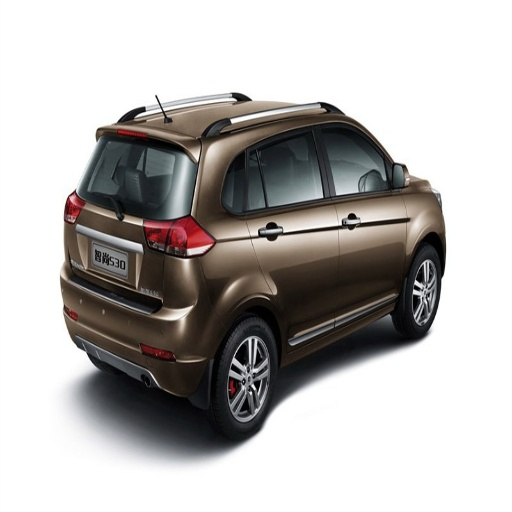back_bumper: (61, 253, 226, 397)
back_right_door: (245, 114, 340, 347)
trunk: (68, 198, 167, 292)
